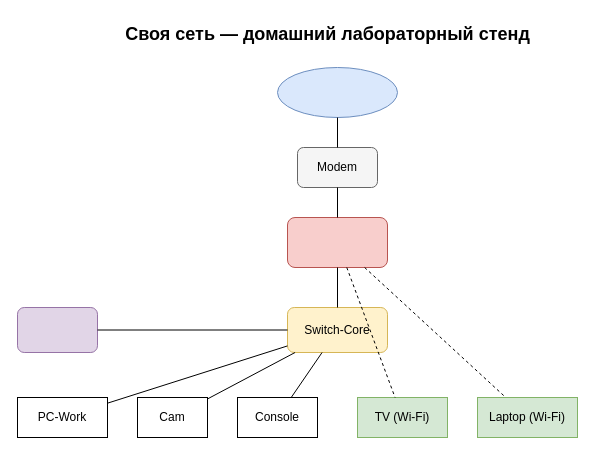
Image size: 595x455. Some labels were removed from this diagram. Here are the shapes that lost their labels. From the top down, the centre of each, then its label:
At pixel 337 92: "Провайдер".
At pixel 337 242: "Router-Home (NAT)".
At pixel 57 329: "NAS".
